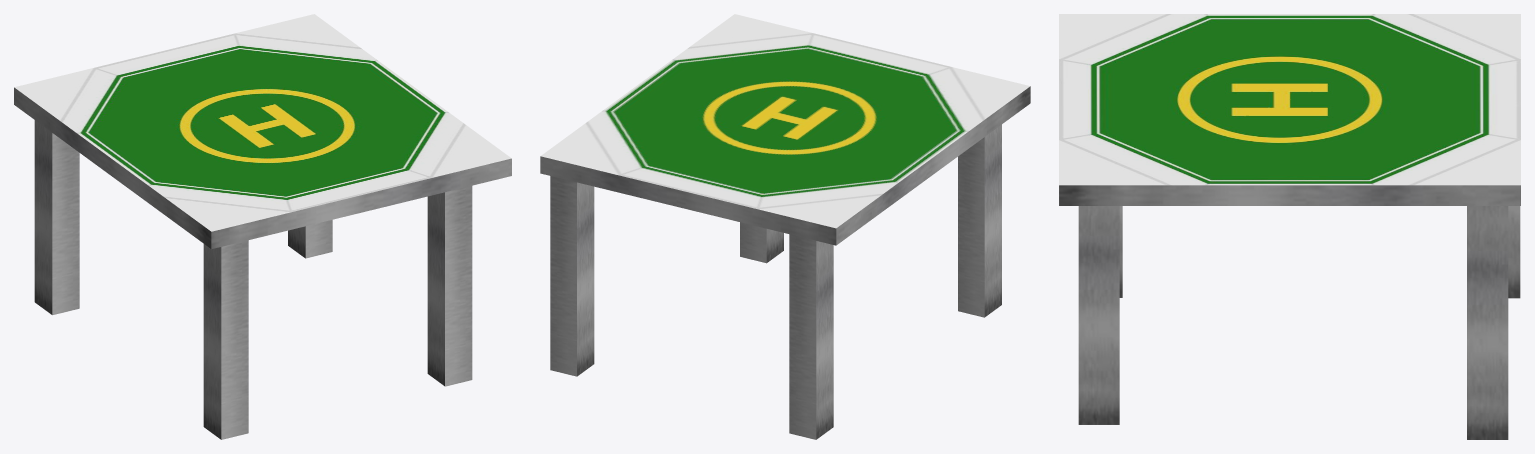
Rendered from Helipuerto.obj.
The picture shows the model from 3 angles, left to right: view 1: azimuth 30°, elevation 25°; view 2: azimuth 150°, elevation 25°; view 3: azimuth 270°, elevation 25°; orthographic projection. The views are drawn at different scales.
Visible parts, largest first — view 1: Cube_Cube.001, Cube_Cube.005, Cube_Cube.004, Cube_Cube.003, Cube_Cube.002; view 2: Cube_Cube.001, Cube_Cube.003, Cube_Cube.002, Cube_Cube.004, Cube_Cube.005; view 3: Cube_Cube.001, Cube_Cube.002, Cube_Cube.005, Cube_Cube.003.
Boxes of the visible parts, bbox=[...] form: Cube_Cube.001: bbox=[14, 14, 511, 249]; Cube_Cube.005: bbox=[427, 186, 472, 386]; Cube_Cube.004: bbox=[203, 240, 248, 439]; Cube_Cube.003: bbox=[34, 120, 79, 315]; Cube_Cube.002: bbox=[288, 220, 332, 258]; Cube_Cube.001: bbox=[540, 14, 1030, 245]; Cube_Cube.003: bbox=[789, 234, 833, 439]; Cube_Cube.002: bbox=[550, 176, 594, 376]; Cube_Cube.004: bbox=[958, 124, 1001, 317]; Cube_Cube.005: bbox=[740, 222, 783, 263]; Cube_Cube.001: bbox=[1059, 14, 1520, 205]; Cube_Cube.002: bbox=[1467, 206, 1508, 439]; Cube_Cube.005: bbox=[1078, 206, 1119, 424]; Cube_Cube.003: bbox=[1508, 206, 1520, 298].
Size of the model in its own units: 44.59 by 31.19 by 50.74.
Materials: 6 (6 with a texture image).
